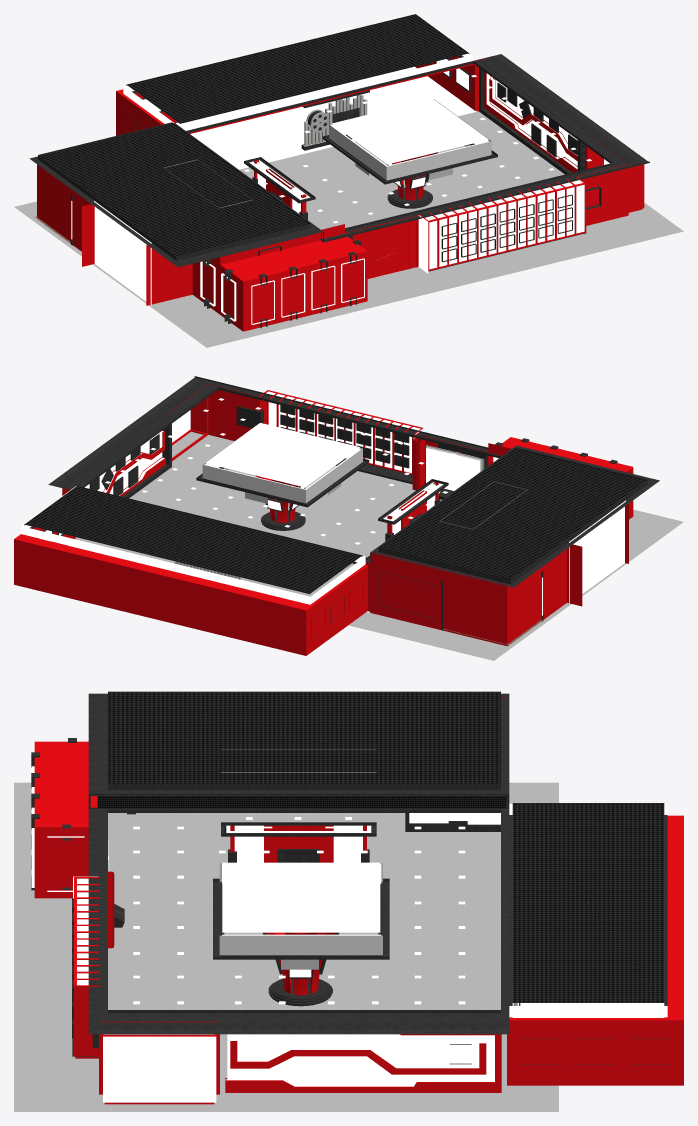
3 views of the same model, one above another, from view 1: azimuth 30°, elevation 25°; view 2: azimuth 150°, elevation 25°; view 3: azimuth 270°, elevation 25° (orthographic). The views are drawn at different scales.
Parts seen in each view (by area): view 1: YFCG_2687, YFCG_2692, YFCG_2670, YFCG_2694, YFCG_2667, YFCG_2695, YFCG_2669, YFCG_2666, YFCG_2703, YFCG_2745, YFCG_2711, YFCG_2701 (+15 smaller); view 2: YFCG_2666, YFCG_2692, YFCG_2687, YFCG_2694, YFCG_2667, YFCG_2703, YFCG_2701, YFCG_2711, YFCG_2745, YFCG_2724, YFCG_2702, YFCG_2669 (+14 smaller); view 3: YFCG_2687, YFCG_2692, YFCG_2694, YFCG_2667, YFCG_2666, YFCG_2719, YFCG_2703, YFCG_2670, YFCG_2743, YFCG_2674, YFCG_2693, YFCG_2702 (+14 smaller).
Boxes of the visible parts, x1,y1,x2,y2 form: YFCG_2687: (14,111,683,347); YFCG_2692: (39,123,309,256); YFCG_2670: (146,215,418,331); YFCG_2694: (127,14,468,123); YFCG_2667: (29,54,649,267); YFCG_2695: (176,66,476,169); YFCG_2669: (425,180,584,269); YFCG_2666: (37,56,487,266); YFCG_2703: (332,99,488,164); YFCG_2745: (94,201,151,305); YFCG_2711: (577,133,644,233); YFCG_2701: (123,14,472,130); YFCG_2666: (14,487,582,655); YFCG_2692: (379,448,646,580); YFCG_2687: (75,435,683,660); YFCG_2694: (24,486,362,593); YFCG_2667: (48,376,659,587); YFCG_2703: (205,423,359,487); YFCG_2701: (21,486,365,604); YFCG_2711: (166,384,267,460); YFCG_2745: (569,500,625,603); YFCG_2724: (280,405,409,468); YFCG_2702: (202,423,362,503); YFCG_2669: (266,391,420,473); YFCG_2687: (14,782,558,1111); YFCG_2692: (108,692,500,783); YFCG_2694: (512,803,664,1002); YFCG_2667: (88,691,509,1034); YFCG_2666: (501,697,683,1085); YFCG_2719: (227,1034,494,1086); YFCG_2703: (222,862,380,932); YFCG_2670: (34,741,97,898); YFCG_2743: (103,1036,216,1102); YFCG_2674: (225,1034,501,1092); YFCG_2693: (97,796,505,808); YFCG_2702: (219,863,382,955).
Size of the model in its own units: 35.8 by 5.07 by 30.1.
13 materials, 5 textured.
